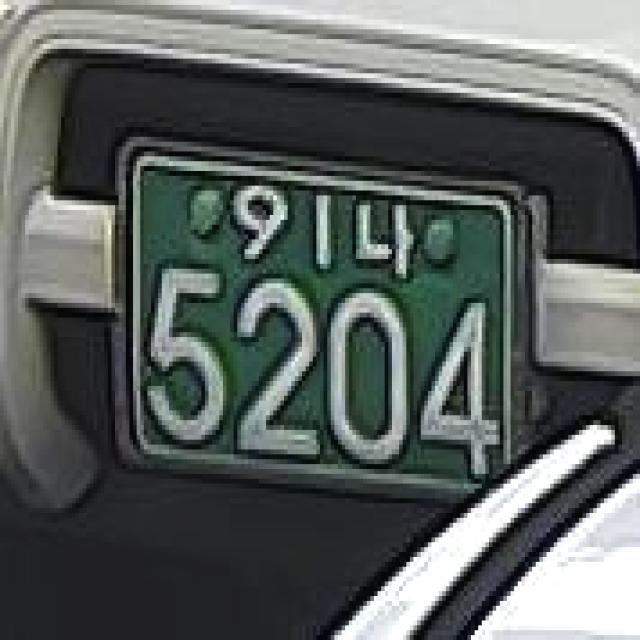illegal_plate: (94, 125, 548, 527)
